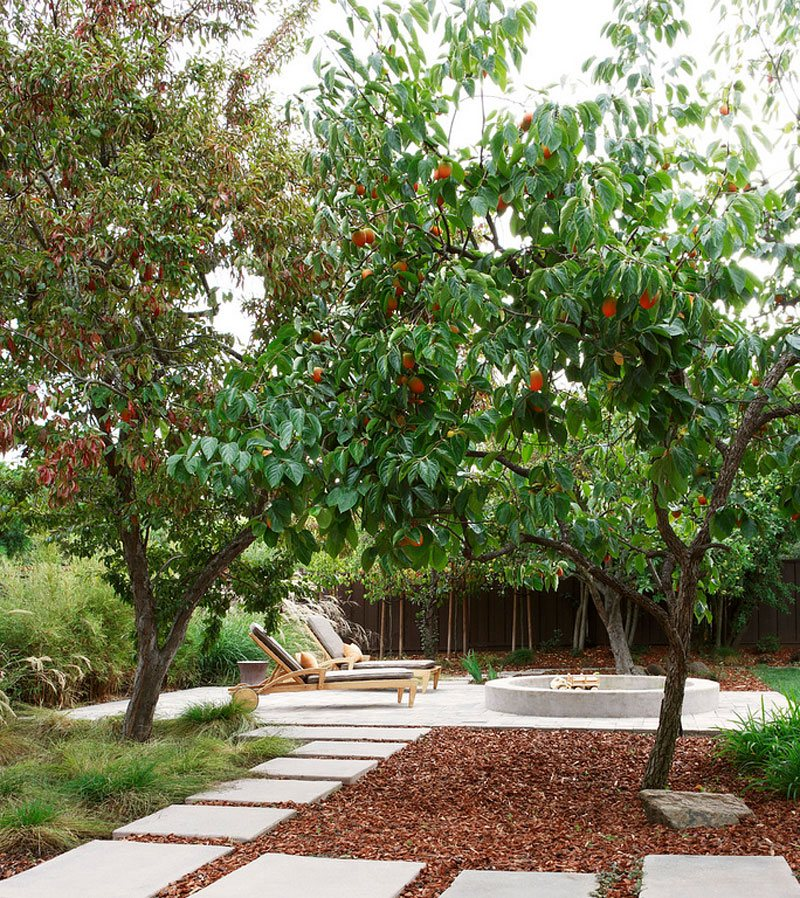tree: (277, 91, 800, 805), (6, 47, 398, 744)
